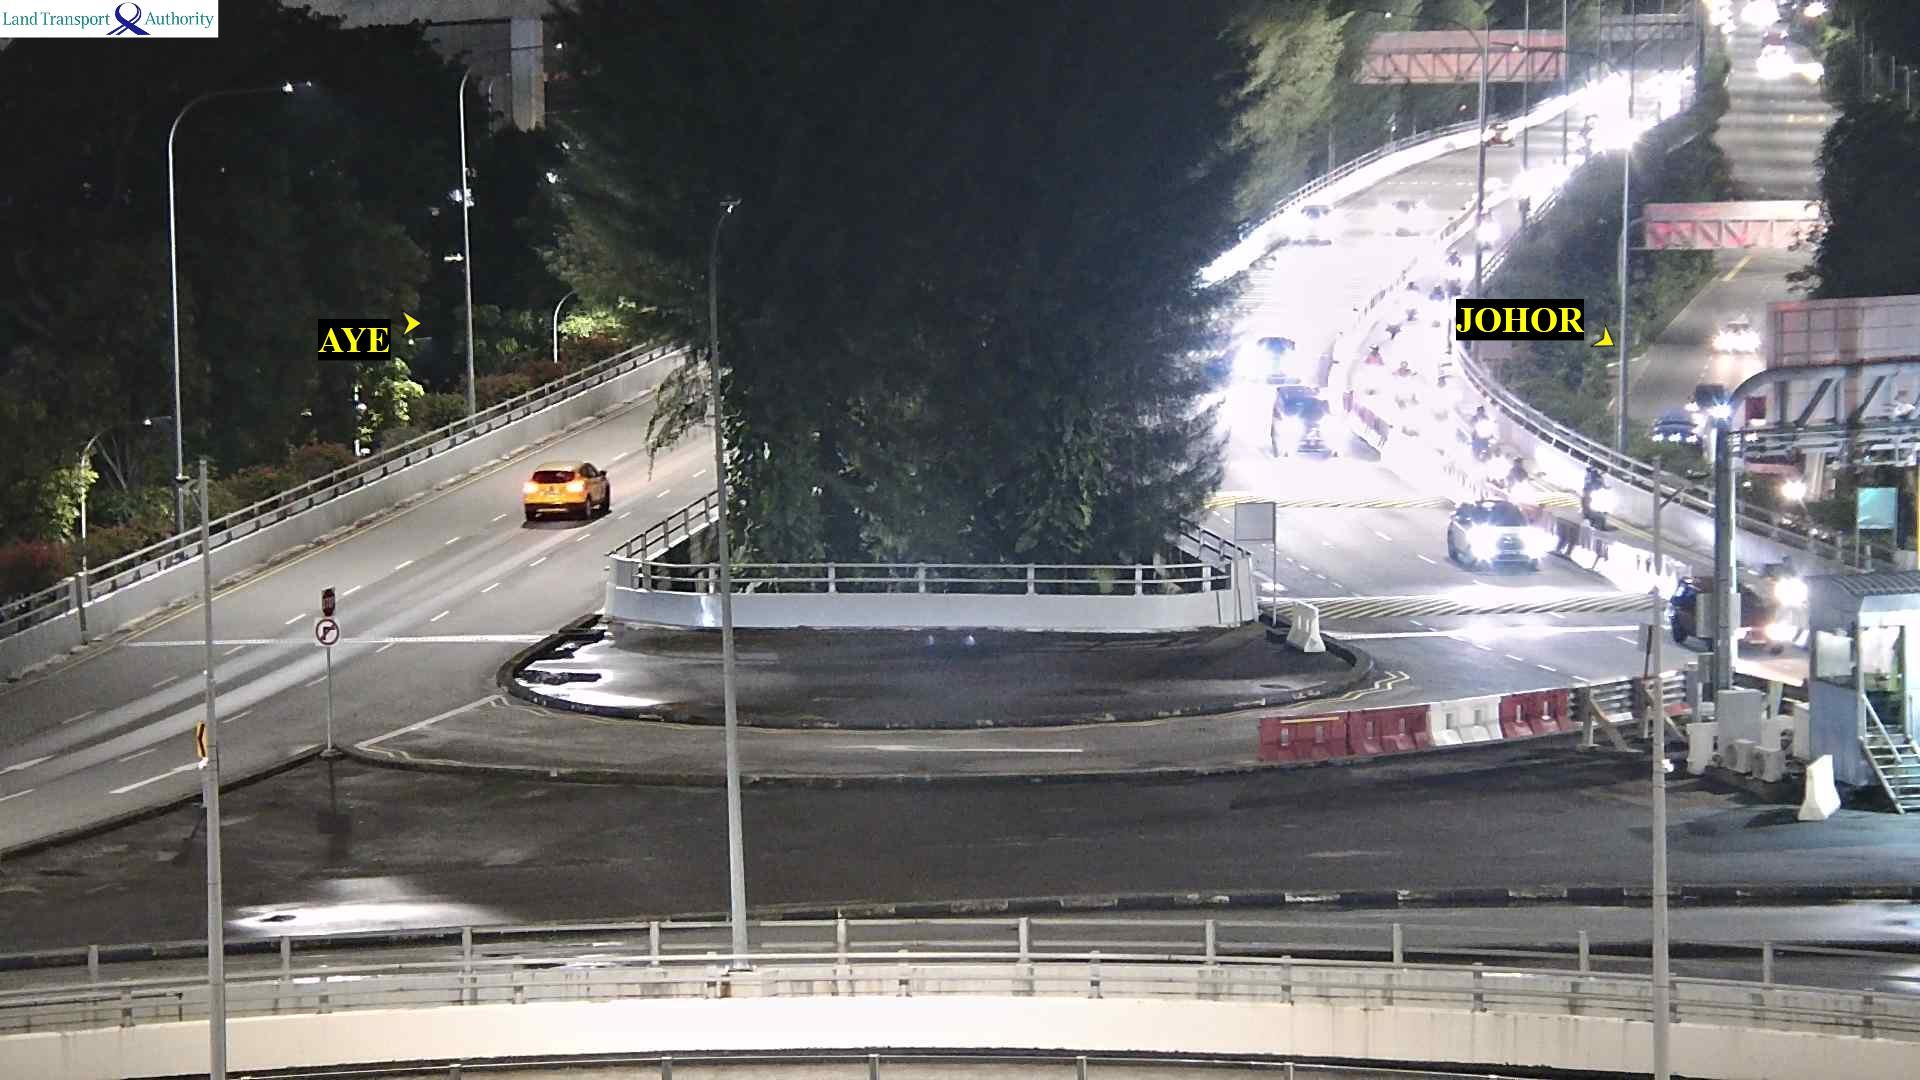vehicle-secondlink-johor: (1672, 574, 1784, 657), (1444, 497, 1549, 578), (1275, 388, 1333, 458), (1294, 202, 1336, 245), (1379, 199, 1422, 236), (1584, 464, 1609, 521), (1393, 360, 1415, 409), (1362, 343, 1382, 392), (1513, 455, 1530, 500), (1429, 281, 1444, 331), (1486, 121, 1514, 146), (1474, 407, 1490, 451), (1403, 280, 1418, 326), (1448, 249, 1460, 297)
vehicle-secondlink-singapore: (520, 459, 609, 526)
